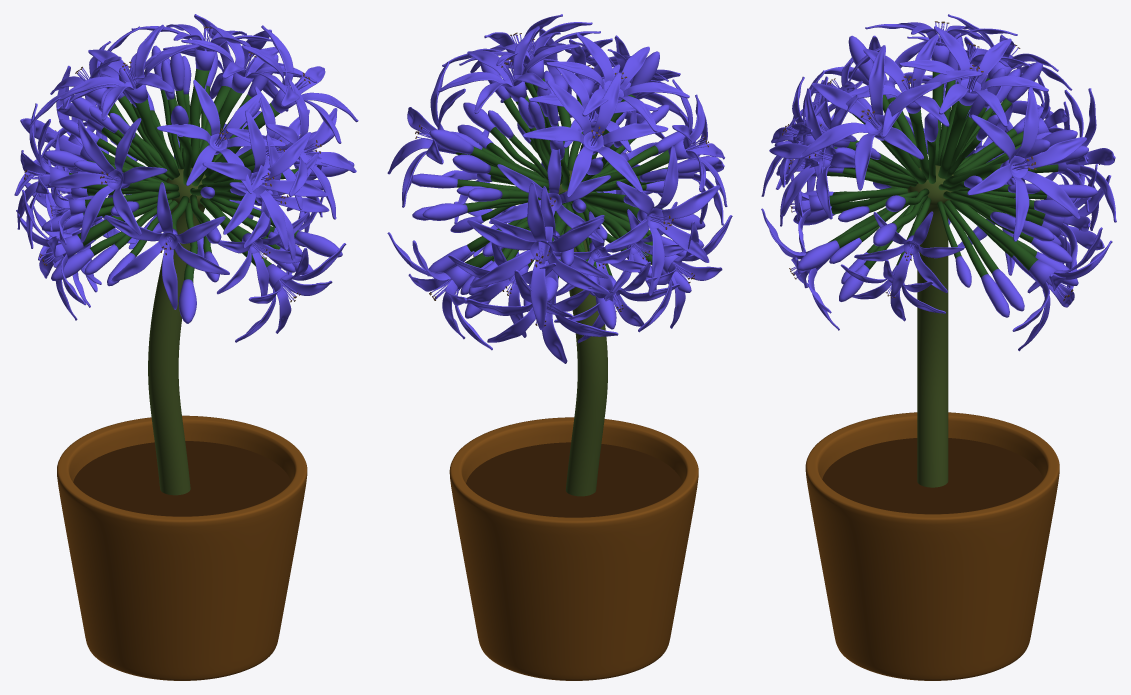
The model's file is Flor_Agapanto.fbx.
3 renders of one model, left to right at view 1: azimuth 30°, elevation 25°; view 2: azimuth 150°, elevation 25°; view 3: azimuth 270°, elevation 25°, orthographic. The views are drawn at different scales.
Parts seen in each view (by area): view 1: Cylinder.002, Cylinder.002|Verde|Dupli|48, Cylinder.002|Verde|Dupli|30, Cylinder.002|Verde|Dupli|57, Cylinder.002|Verde|Dupli|75, Cylinder.002|Verde|Dupli|72, Cylinder.002|Verde|Dupli|63, Cylinder.002|Verde|Dupli|6, Cylinder.002|Verde|Dupli|51, Cylinder.002|Verde|Dupli|84, Cylinder.002|Verde|Dupli|18, Cylinder.002|Verde|Dupli|36 (+26 smaller); view 2: Cylinder.002, Cylinder.002|Verde|Dupli|24, Cylinder.002|Verde|Dupli|39, Cylinder.002|Verde|Dupli|66, Cylinder.002|Verde|Dupli|81, Cylinder.002|Verde|Dupli|75, Cylinder.002|Verde|Dupli|12, Cylinder.002|Verde|Dupli|60, Cylinder.002|Verde|Dupli|9, Cylinder.002|Verde|Dupli|48, Cylinder.002|Verde|Dupli|36, Cylinder.002|Verde|Dupli|15 (+26 smaller); view 3: Cylinder.002, Cylinder.002|Verde|Dupli|15, Cylinder.002|Verde|Dupli|63, Cylinder.002|Verde|Dupli|81, Cylinder.002|Verde|Dupli|9, Cylinder.002|Verde|Dupli|84, Cylinder.002|Verde|Dupli|51, Cylinder.002|Verde|Dupli|33, Cylinder.002|Verde|Dupli|24, Cylinder.002|Verde|Dupli|75, Cylinder.002|Verde|Dupli|, Cylinder.002|Verde|Dupli|57 (+28 smaller).
Boxes of the visible parts, bbox=[...] form: Cylinder.002: bbox=[57, 167, 307, 680]; Cylinder.002|Verde|Dupli|48: bbox=[49, 118, 178, 242]; Cylinder.002|Verde|Dupli|30: bbox=[104, 182, 229, 309]; Cylinder.002|Verde|Dupli|57: bbox=[198, 110, 327, 249]; Cylinder.002|Verde|Dupli|75: bbox=[59, 24, 199, 178]; Cylinder.002|Verde|Dupli|72: bbox=[157, 79, 285, 193]; Cylinder.002|Verde|Dupli|63: bbox=[204, 25, 358, 176]; Cylinder.002|Verde|Dupli|6: bbox=[203, 199, 346, 342]; Cylinder.002|Verde|Dupli|51: bbox=[213, 79, 356, 219]; Cylinder.002|Verde|Dupli|84: bbox=[181, 24, 316, 173]; Cylinder.002|Verde|Dupli|18: bbox=[199, 197, 309, 296]; Cylinder.002|Verde|Dupli|36: bbox=[16, 189, 157, 320]; Cylinder.002: bbox=[449, 170, 698, 680]; Cylinder.002|Verde|Dupli|24: bbox=[467, 182, 609, 330]; Cylinder.002|Verde|Dupli|39: bbox=[579, 146, 720, 295]; Cylinder.002|Verde|Dupli|66: bbox=[523, 72, 668, 197]; Cylinder.002|Verde|Dupli|81: bbox=[438, 26, 579, 171]; Cylinder.002|Verde|Dupli|75: bbox=[546, 33, 689, 155]; Cylinder.002|Verde|Dupli|12: bbox=[467, 229, 618, 363]; Cylinder.002|Verde|Dupli|60: bbox=[489, 148, 610, 264]; Cylinder.002|Verde|Dupli|9: bbox=[387, 217, 527, 350]; Cylinder.002|Verde|Dupli|48: bbox=[599, 79, 727, 206]; Cylinder.002|Verde|Dupli|36: bbox=[590, 205, 732, 332]; Cylinder.002|Verde|Dupli|15: bbox=[387, 62, 534, 207]; Cylinder.002: bbox=[805, 165, 1059, 680]; Cylinder.002|Verde|Dupli|15: bbox=[943, 86, 1086, 241]; Cylinder.002|Verde|Dupli|63: bbox=[800, 45, 942, 190]; Cylinder.002|Verde|Dupli|81: bbox=[899, 25, 1048, 178]; Cylinder.002|Verde|Dupli|9: bbox=[950, 200, 1112, 351]; Cylinder.002|Verde|Dupli|84: bbox=[848, 34, 982, 179]; Cylinder.002|Verde|Dupli|51: bbox=[769, 88, 916, 219]; Cylinder.002|Verde|Dupli|33: bbox=[854, 197, 964, 297]; Cylinder.002|Verde|Dupli|24: bbox=[982, 88, 1116, 230]; Cylinder.002|Verde|Dupli|75: bbox=[865, 21, 1017, 165]; Cylinder.002|Verde|Dupli|: bbox=[840, 204, 945, 321]; Cylinder.002|Verde|Dupli|57: bbox=[761, 70, 886, 196].
Bounding box in the file's own units: 145 × 287 × 151.
